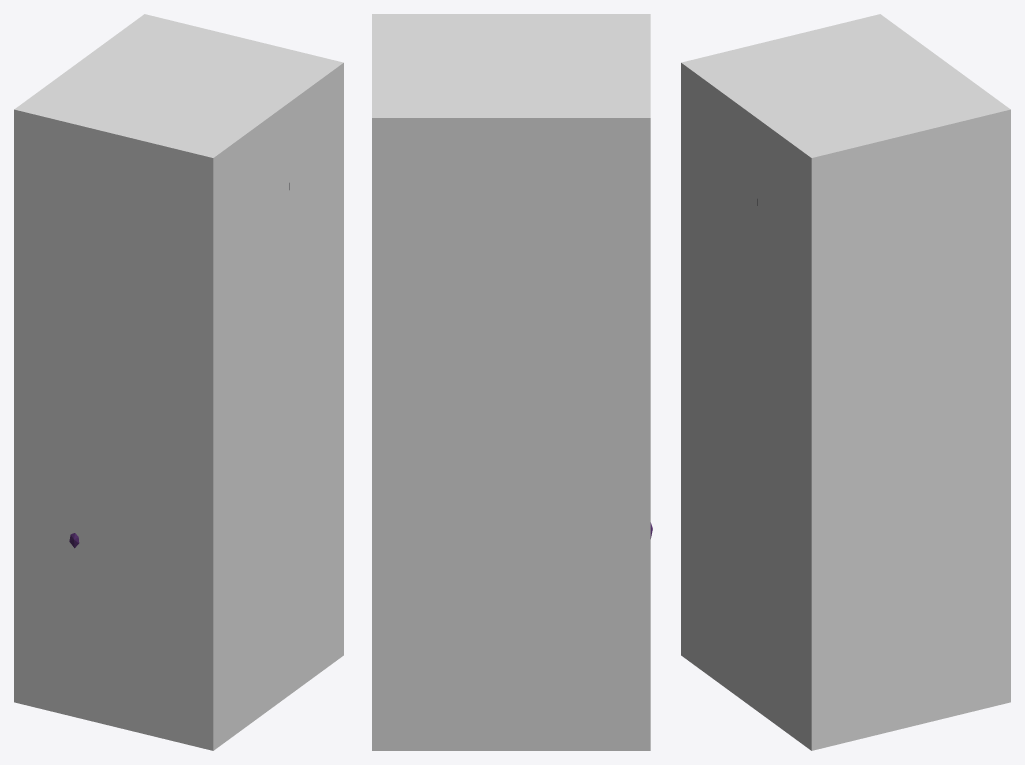
The model's file is npc_gem_merchant.fbx.
The picture shows the model from 3 angles, left to right: view 1: azimuth 30°, elevation 25°; view 2: azimuth 150°, elevation 25°; view 3: azimuth 270°, elevation 25°; orthographic projection. The views are drawn at different scales.
Parts seen in each view (by area): view 1: Root__0.06_3.00_0.05__2.39_6.00_2.11; view 2: Root__0.06_3.00_0.05__2.39_6.00_2.11; view 3: Root__0.06_3.00_0.05__2.39_6.00_2.11.
Boxes of the visible parts, box(x1,y1,x2,y2) form: Root__0.06_3.00_0.05__2.39_6.00_2.11: box(14, 14, 343, 750); Root__0.06_3.00_0.05__2.39_6.00_2.11: box(372, 14, 650, 750); Root__0.06_3.00_0.05__2.39_6.00_2.11: box(681, 14, 1010, 750).
Bounding box in the file's own units: 87.59 × 169 × 84.69.
Materials: 2 (1 with a texture image).
